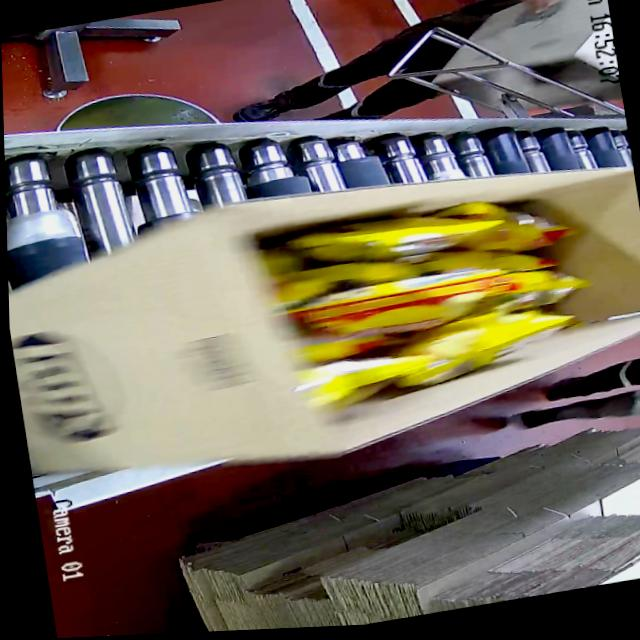SALTED: (248, 176, 601, 414)
